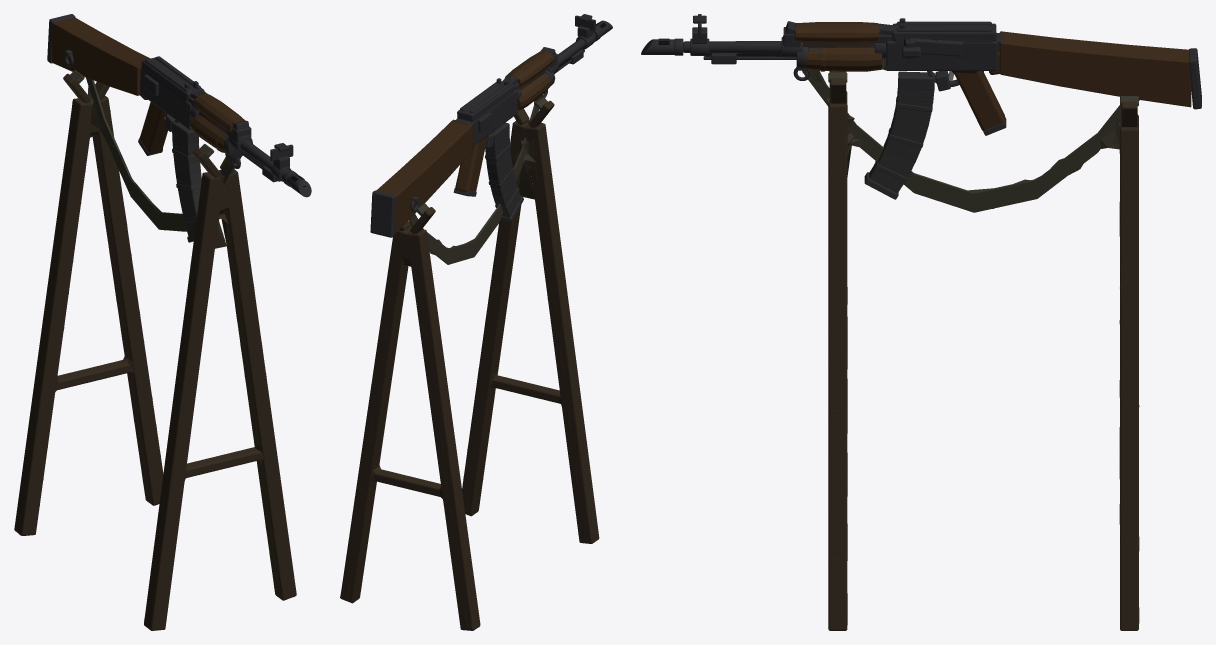
Rendered from rifle_e.glb.
The picture shows the model from 3 angles, left to right: view 1: azimuth 30°, elevation 25°; view 2: azimuth 150°, elevation 25°; view 3: azimuth 270°, elevation 25°; orthographic projection. The views are drawn at different scales.
Parts seen in each view (by area): view 1: L0_00_hull_opaque, L1_01_hull_opaque, L2_02_hull_opaque; view 2: L0_00_hull_opaque, L1_01_hull_opaque, L2_02_hull_opaque; view 3: L0_00_hull_opaque, L1_01_hull_opaque, L2_02_hull_opaque.
Boxes of the visible parts, x1,y1,x2,y2 form: L0_00_hull_opaque: [14, 14, 311, 630]; L1_01_hull_opaque: [18, 29, 294, 630]; L2_02_hull_opaque: [18, 86, 295, 628]; L0_00_hull_opaque: [340, 14, 612, 630]; L1_01_hull_opaque: [340, 40, 598, 627]; L2_02_hull_opaque: [341, 99, 591, 628]; L0_00_hull_opaque: [641, 14, 1201, 630]; L1_01_hull_opaque: [705, 22, 1189, 630]; L2_02_hull_opaque: [806, 70, 1139, 626].
Size of the model in its own units: 0.2989 by 1 by 0.8852.
